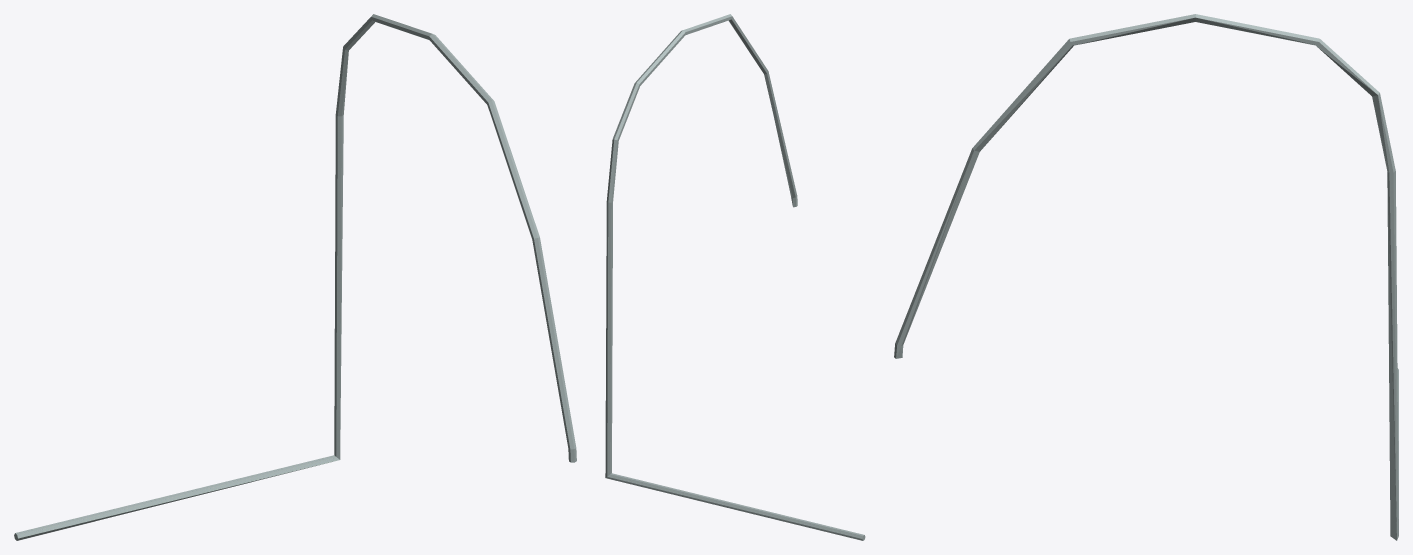
Rendered from xt040-geode.glb.
The picture shows the model from 3 angles, left to right: view 1: azimuth 30°, elevation 25°; view 2: azimuth 150°, elevation 25°; view 3: azimuth 270°, elevation 25°; orthographic projection. The views are drawn at different scales.
Parts seen in each view (by area): view 1: Node; view 2: Node; view 3: Node.
Boxes of the visible parts, x1,y1,x2,y2 form: Node: [14, 14, 576, 540]; Node: [605, 14, 865, 540]; Node: [894, 14, 1398, 540].
Size of the model in its own units: 0.2807 by 0.4098 by 0.3567.
Materials: 1 (1 with a texture image).
